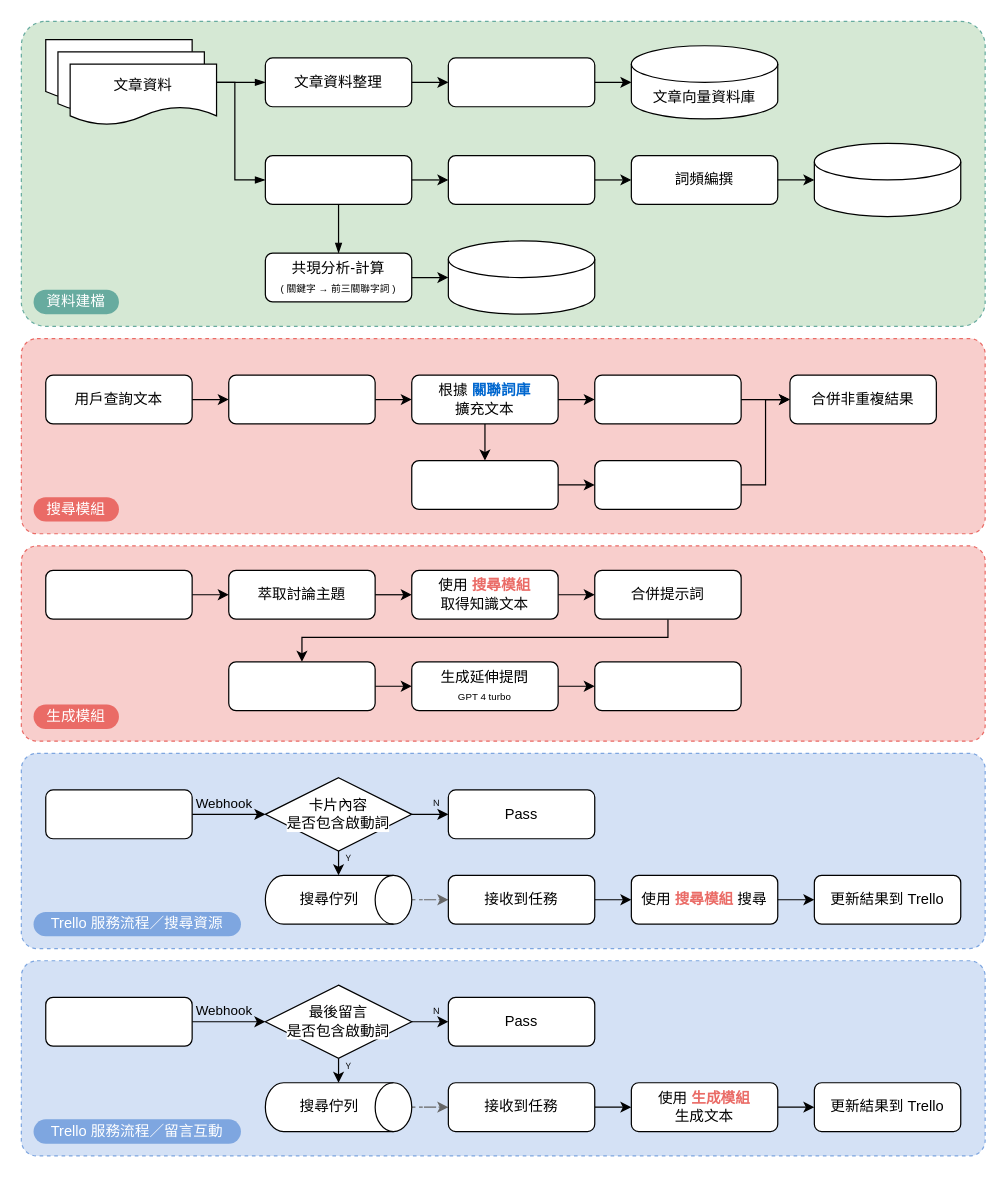
The diagram is 1007 pixels wide and 1177 high, and some of its shapes have lost their labels. Here are the shapes that lost their labels. From the top down, the box of each, then its label:
(447, 57, 595, 107): SBERT (embedding)
(264, 154, 412, 204): monpa 斷詞
(447, 154, 595, 204): TF-IDF-計算 ( 關鍵字重要度 )
(813, 142, 961, 217): 文章詞頻 資料庫
(447, 240, 595, 314): 關聯詞庫
(228, 374, 375, 424): 關鍵字萃取
(594, 374, 741, 424): 根據 文章詞頻 資料庫 搜尋詞頻高的文章
(411, 459, 558, 509): 擴充後文本 SBERT (embedding)
(594, 459, 741, 509): 根據 文章向量 資料庫 向量搜尋
(45, 569, 192, 619): 接收留言清單
(228, 661, 375, 711): 生成回應 GPT 4 turbo
(594, 661, 741, 711): 合併 回應與提問
(45, 789, 192, 839): 學生 在 Trello 新增卡片
(45, 996, 192, 1046): 學生 在 Trello 留言
